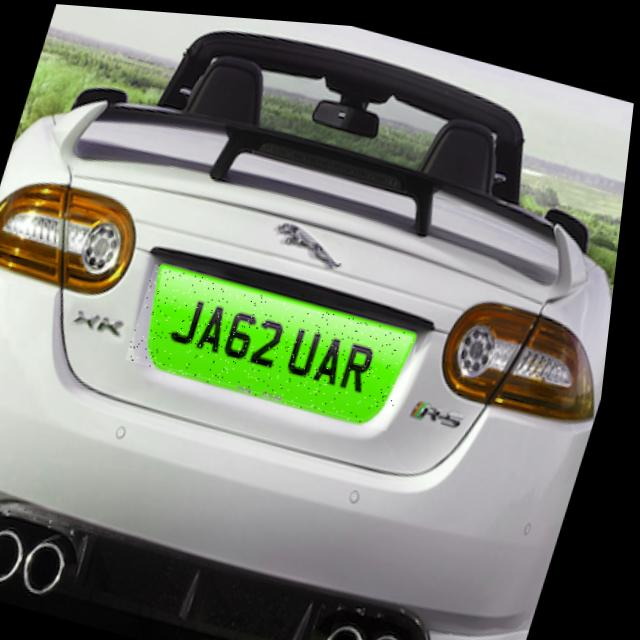license_plate: (129, 260, 428, 426)
